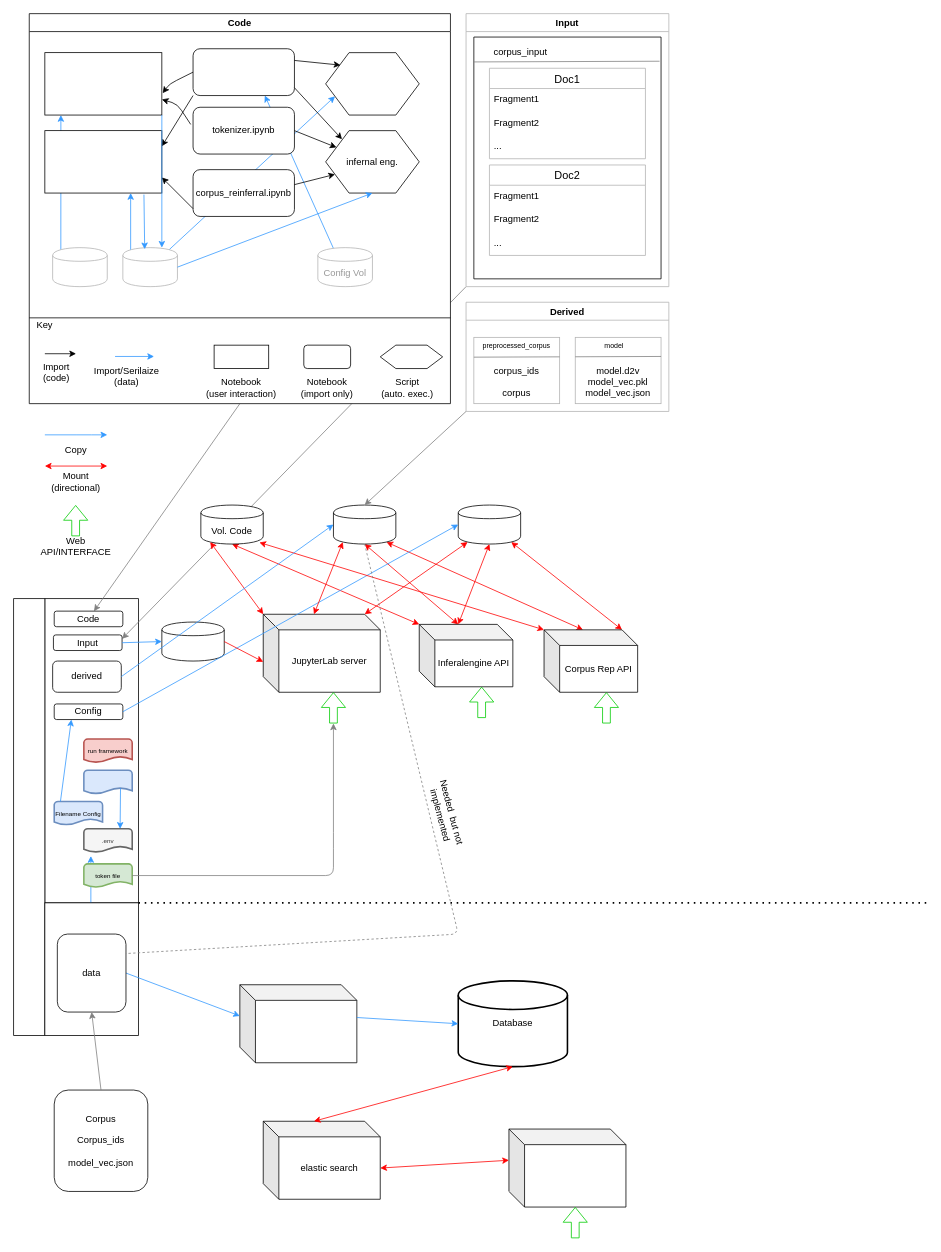
This 941x1252 diagram has some shape labels left out. Each missing label, with the centre of its shape:
corpus rep.: the point at 372,83
docker config: the point at 108,781
filepaths.ipynb: the point at 243,72
generate_d2v_model.ipynb: the point at 103,161
Host System: the point at 29,816
Indexer: the point at 298,1023
Input Vol: the point at 79,267
Output Vol: the point at 149,267
preprocess_corpus.ipynb: the point at 103,83
UI: the point at 567,1167
Vol. Config: the point at 489,524
Vol. Derived: the point at 364,524
Vol. Input: the point at 192,641
